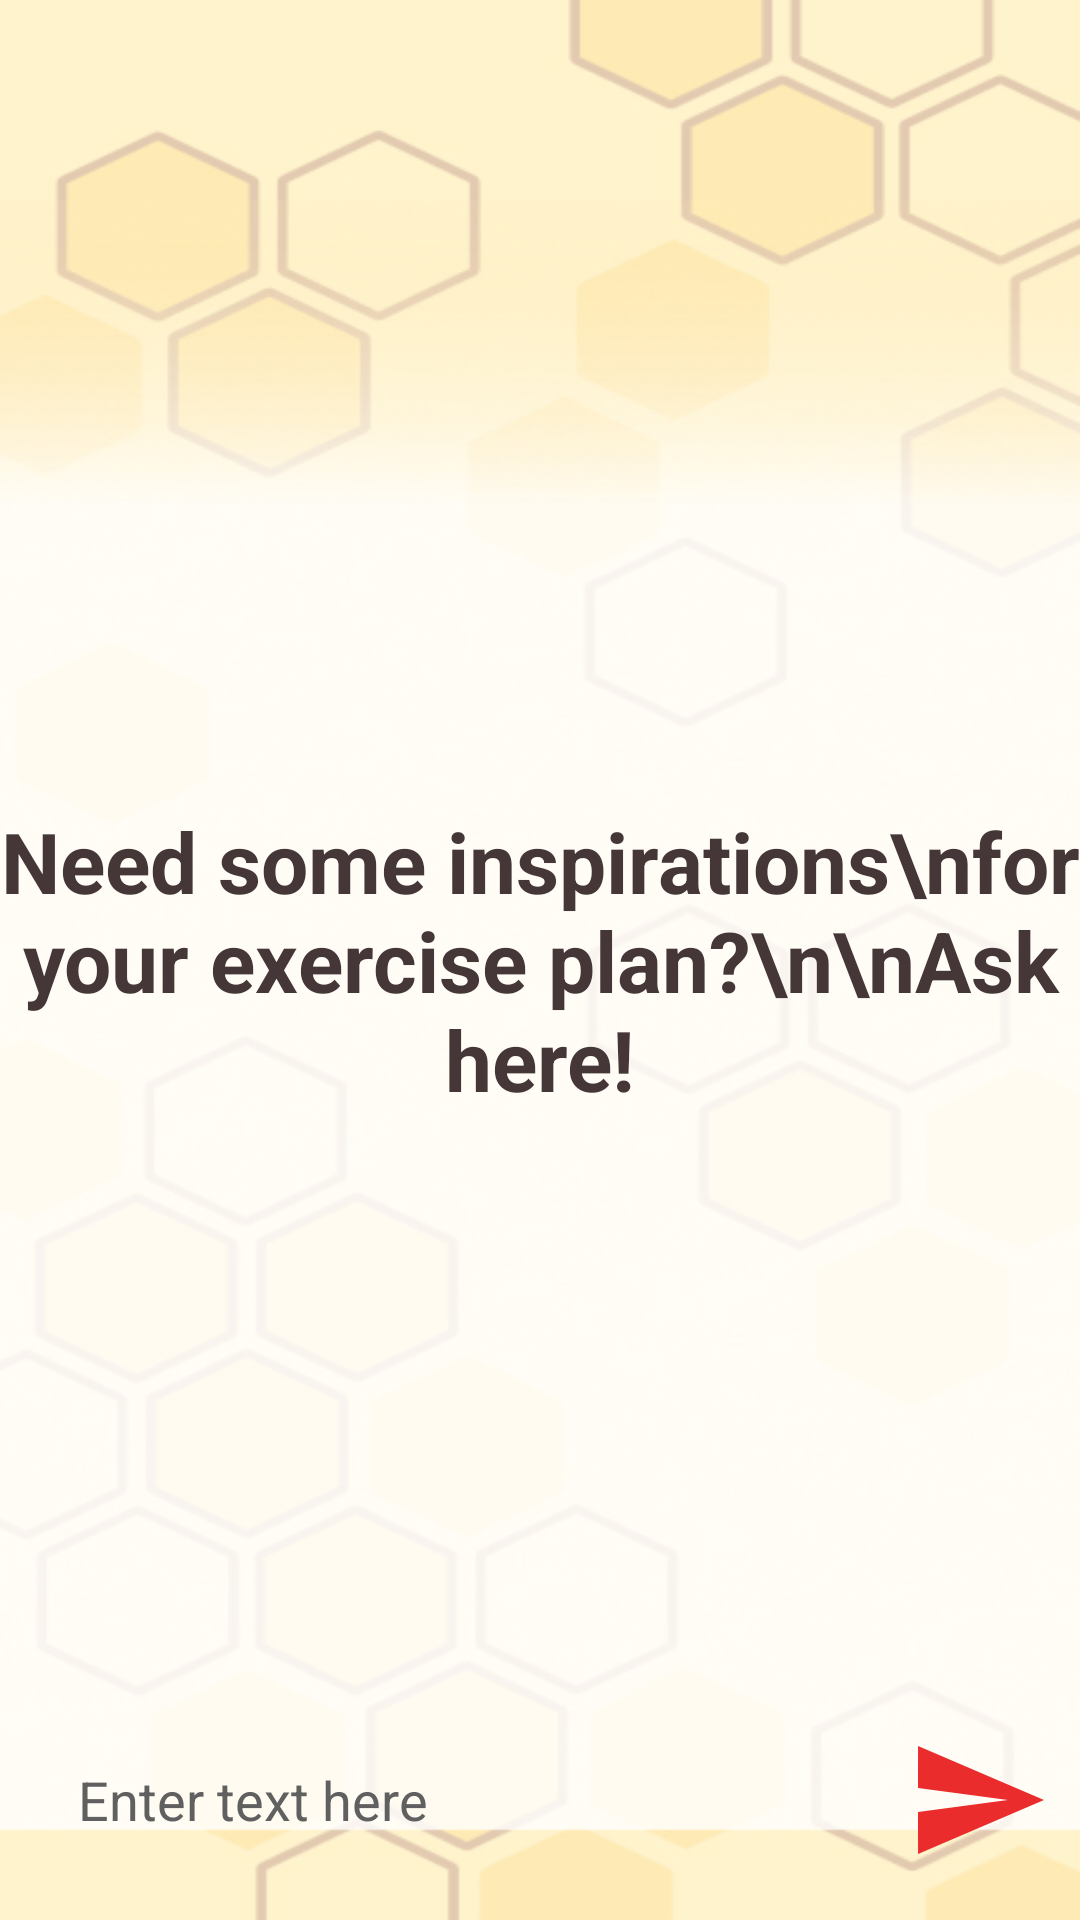

Screen size 1080px x 1920px. Icon name, then its center in pixels as (x,y):
Send Button in Plans Chat: (978,1809)
